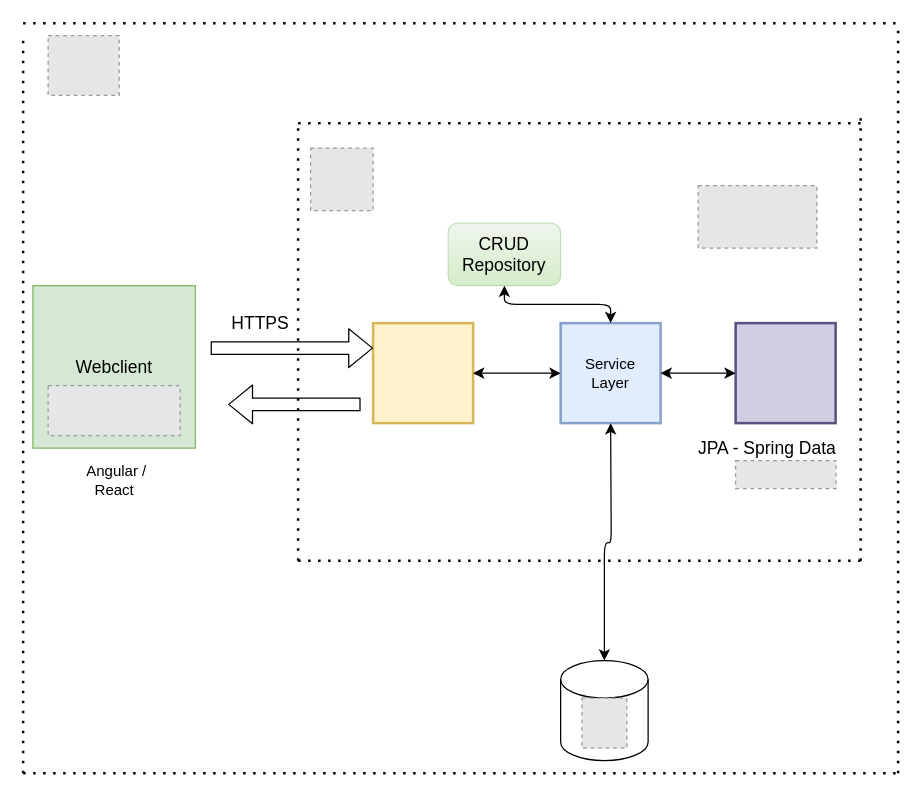
This 921x796 diagram has some shape labels left out. Grey dashed boxes stand in for pictures. Each missing label, with the centre of its shape:
"Controller" belongs at (422,372).
"Model" belongs at (785,372).
